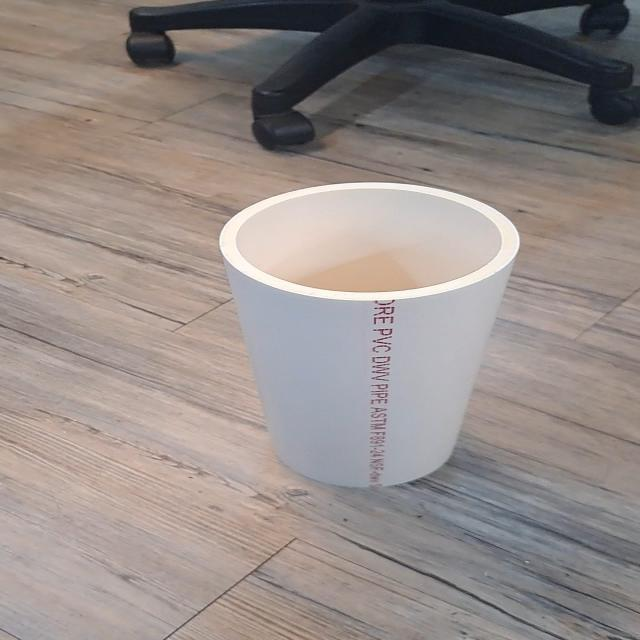CORAL: (208, 176, 523, 500)
